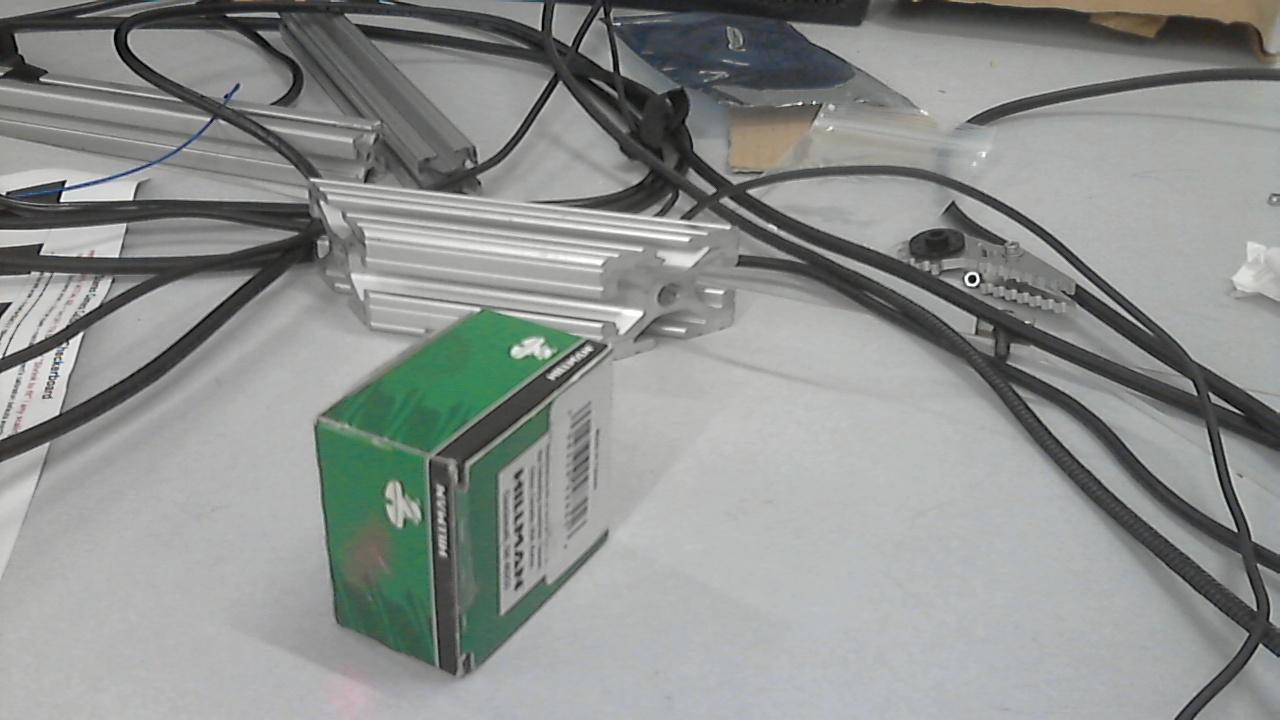Object screw packaging box - Material cardboard - Pdfname VgpKnmoKJfrS: (342, 507, 422, 617)
